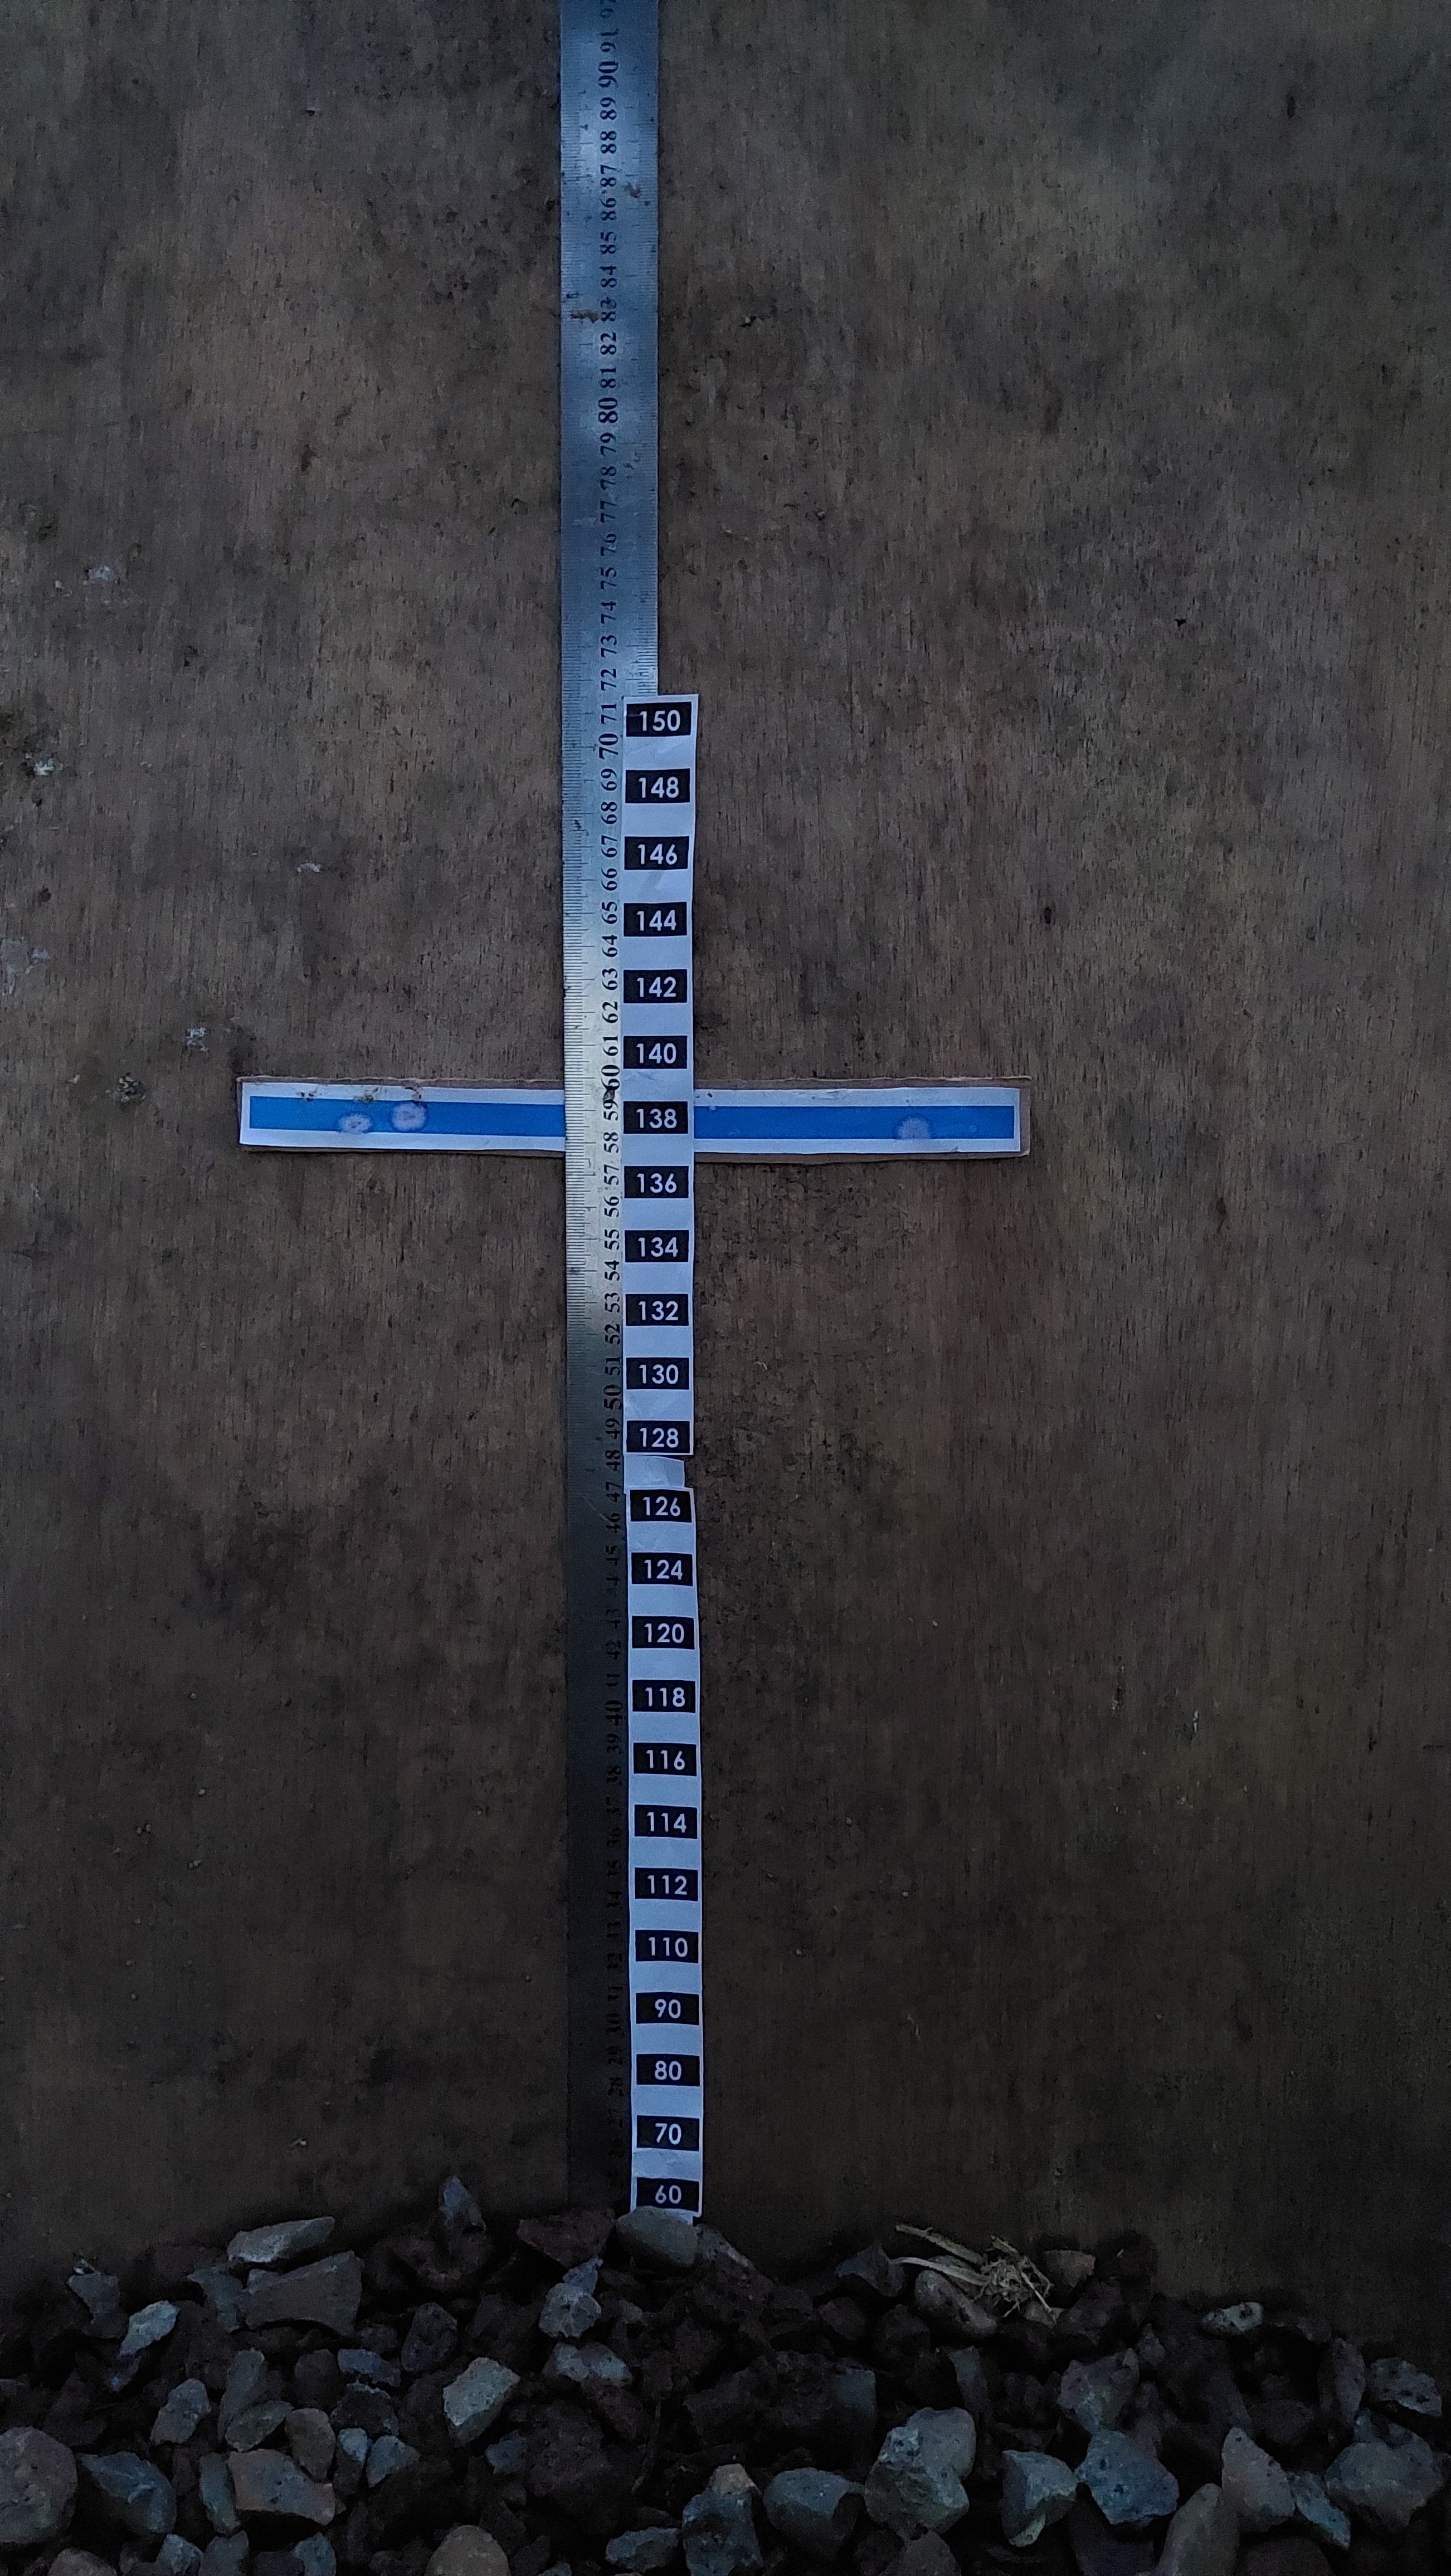kotak_2x1: (635, 1928, 699, 1967), (626, 701, 692, 738), (623, 901, 687, 938), (625, 768, 690, 803), (623, 835, 688, 870), (633, 1805, 699, 1840), (635, 2116, 701, 2151), (633, 1679, 695, 1716), (623, 970, 687, 1005), (632, 1615, 695, 1651), (635, 1867, 699, 1902), (637, 2052, 701, 2088), (623, 1100, 688, 1134), (625, 1166, 690, 1200), (625, 1230, 690, 1263), (623, 1293, 688, 1327), (630, 1552, 692, 1587), (626, 1357, 690, 1391), (633, 1743, 697, 1776), (635, 1990, 699, 2024), (635, 2176, 699, 2210), (623, 1037, 688, 1069), (630, 1490, 692, 1523), (626, 1421, 690, 1453)
